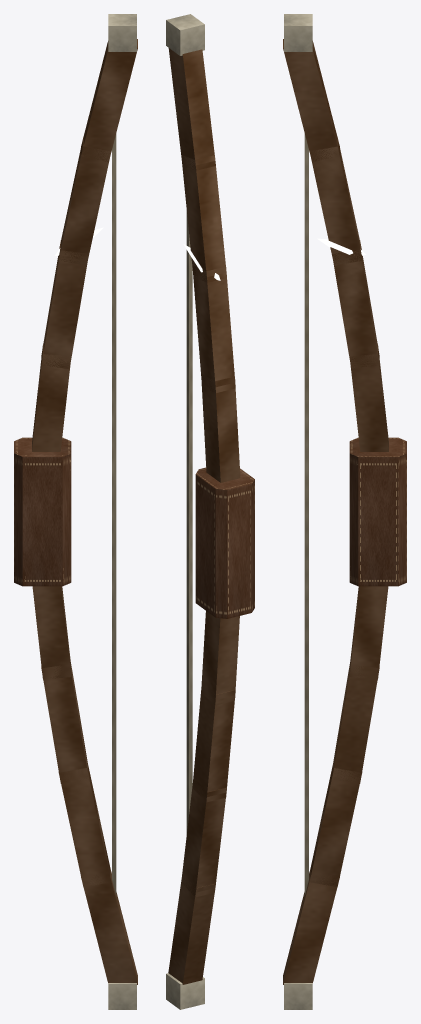
File: HunterBow.fbx
3 renders of one model, left to right at view 1: azimuth 90°, elevation 25°; view 2: azimuth 210°, elevation 25°; view 3: azimuth 270°, elevation 25°, orthographic.
Visible parts, largest first — view 1: Limbs, Handle, String; view 2: Limbs, Handle, String; view 3: Limbs, Handle, String.
Boxes of the visible parts, left/top/right/bottom form: Limbs: left=32, top=14, right=137, bottom=1009; Handle: left=14, top=437, right=71, bottom=586; String: left=112, top=134, right=116, bottom=895; Limbs: left=166, top=14, right=240, bottom=1009; Handle: left=195, top=467, right=254, bottom=618; String: left=186, top=211, right=192, bottom=833; Limbs: left=283, top=14, right=388, bottom=1009; Handle: left=349, top=437, right=406, bottom=586; String: left=304, top=134, right=308, bottom=895.
Bounding box in the file's own units: 16 × 380 × 43.32.
Materials: 2 (1 with a texture image).
